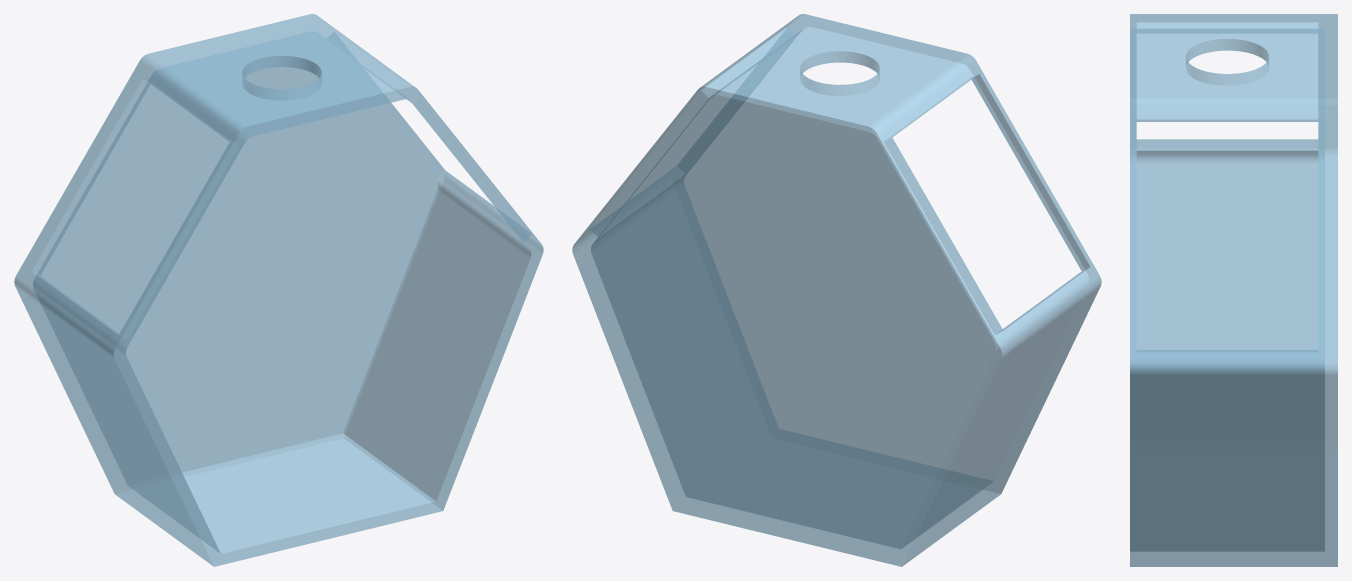
File: Humanoid_body.dae
3 views of the same model, side by side, from view 1: azimuth 30°, elevation 25°; view 2: azimuth 150°, elevation 25°; view 3: azimuth 270°, elevation 25° (orthographic). The views are drawn at different scales.
Visible parts, largest first — view 1: ID2; view 2: ID2; view 3: ID2.
Boxes of the visible parts, box(x1,y1,x2,y2) form: ID2: box(14, 14, 543, 566); ID2: box(572, 14, 1101, 566); ID2: box(1130, 14, 1337, 566).
Bounding box in the file's own units: 0.3994 × 0.16 × 0.3838.
